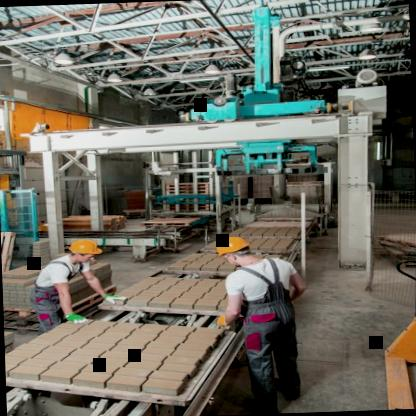helmet: (217, 235, 252, 264), (68, 240, 105, 264)
